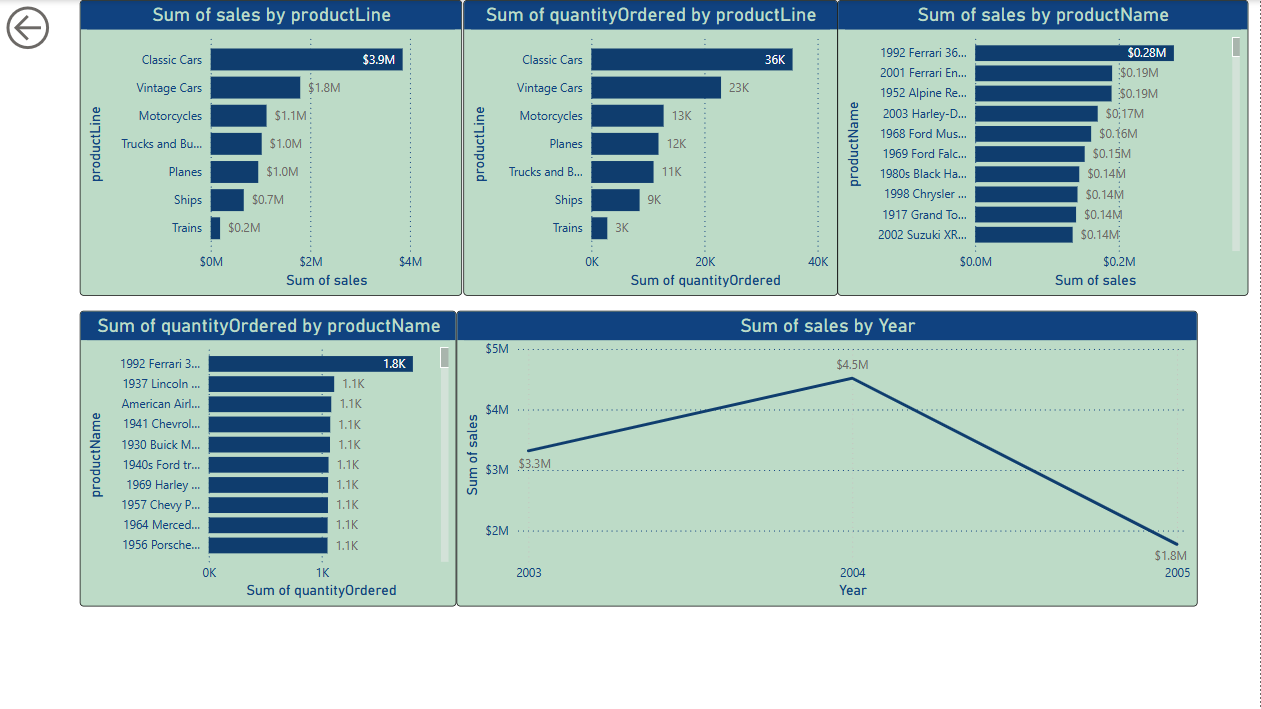

The dashboard page shown, as its layout file describes it:
{"tool":"powerbi","page":{"name":"Page 2","canvas":[1280,720],"ordinal":2},"visuals":[{"type":"actionButton","box":[0,0,100,55.7],"z":0},{"type":"barChart","fields":{"Category":["products.productLine"],"Y":["Sum(order details.sales)"]},"box":[81.4,0,388.6,300],"z":1000},{"type":"barChart","fields":{"Category":["products.productLine"],"Y":["Sum(order details.quantityOrdered)"]},"box":[470,0,380,300],"z":2000},{"type":"barChart","fields":{"Category":["products.productName"],"Y":["Sum(order details.sales)"]},"box":[850,0,417.1,300],"z":3000},{"type":"barChart","fields":{"Category":["products.productName"],"Y":["Sum(order details.quantityOrdered)"]},"box":[81.4,315.7,382.9,300],"z":4000},{"type":"lineChart","fields":{"Y":["Sum(order details.sales)"],"Category":["orders.orderDate.Variation.Date Hierarchy.Year","orders.orderDate.Variation.Date Hierarchy.Quarter","orders.orderDate.Variation.Date Hierarchy.Month","orders.orderDate.Variation.Date Hierarchy.Day"]},"box":[464.3,315.7,752.9,300],"z":5000}]}

Visuals, with their boxes in screenshot pixels (x1, y1, x2, y2), scaled from the page's 1280x720 canvas onto the 1261x709 screenshot:
actionButton: region(0, 0, 99, 55)
barChart - products.productLine x Sum(order details.sales): region(80, 0, 463, 295)
barChart - products.productLine x Sum(order details.quantityOrdered): region(463, 0, 837, 295)
barChart - products.productName x Sum(order details.sales): region(837, 0, 1248, 295)
barChart - products.productName x Sum(order details.quantityOrdered): region(80, 311, 457, 606)
lineChart - Sum(order details.sales) x orders.orderDate.Variation.Date Hierarchy.Year: region(457, 311, 1199, 606)
